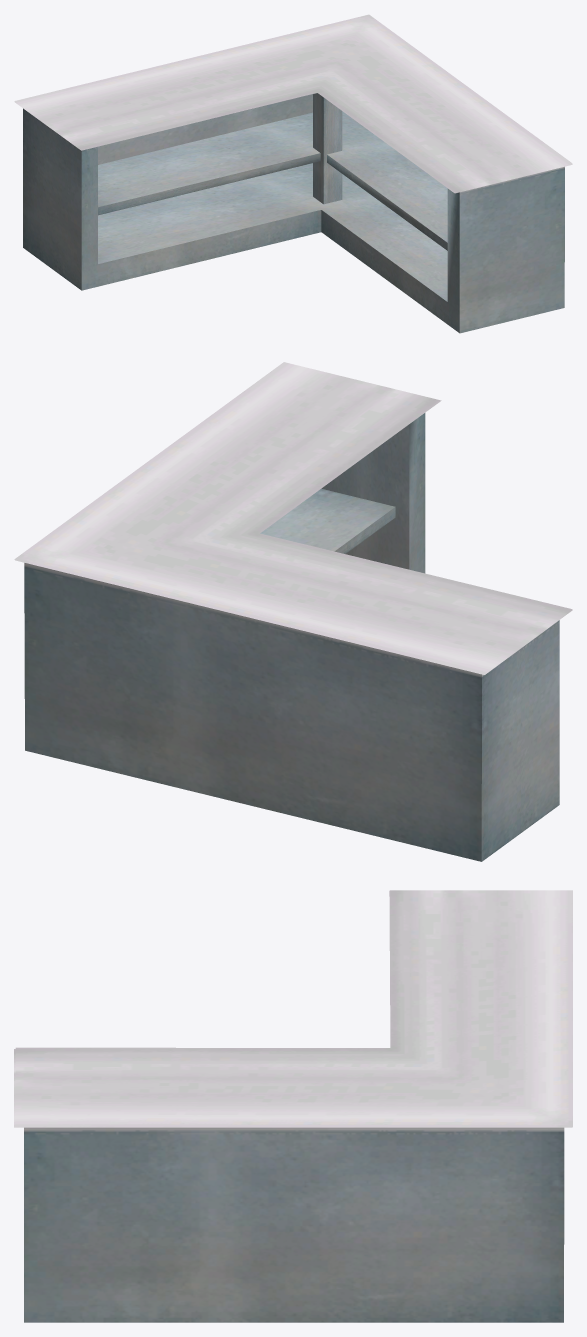
The model's file is frn_bar_piece_straight_s1_l1.fbx.
The picture shows the model from 3 angles, top to bottom: view 1: azimuth 30°, elevation 25°; view 2: azimuth 150°, elevation 25°; view 3: azimuth 270°, elevation 25°; orthographic projection. The views are drawn at different scales.
Visible parts, largest first — view 1: mesh_node; view 2: mesh_node; view 3: mesh_node.
Boxes of the visible parts, x1,y1,x2,y2 form: mesh_node: (14, 14, 572, 333); mesh_node: (14, 362, 572, 861); mesh_node: (14, 890, 572, 1322).
Size of the model in its own units: 2.94 by 1.15 by 2.93.
